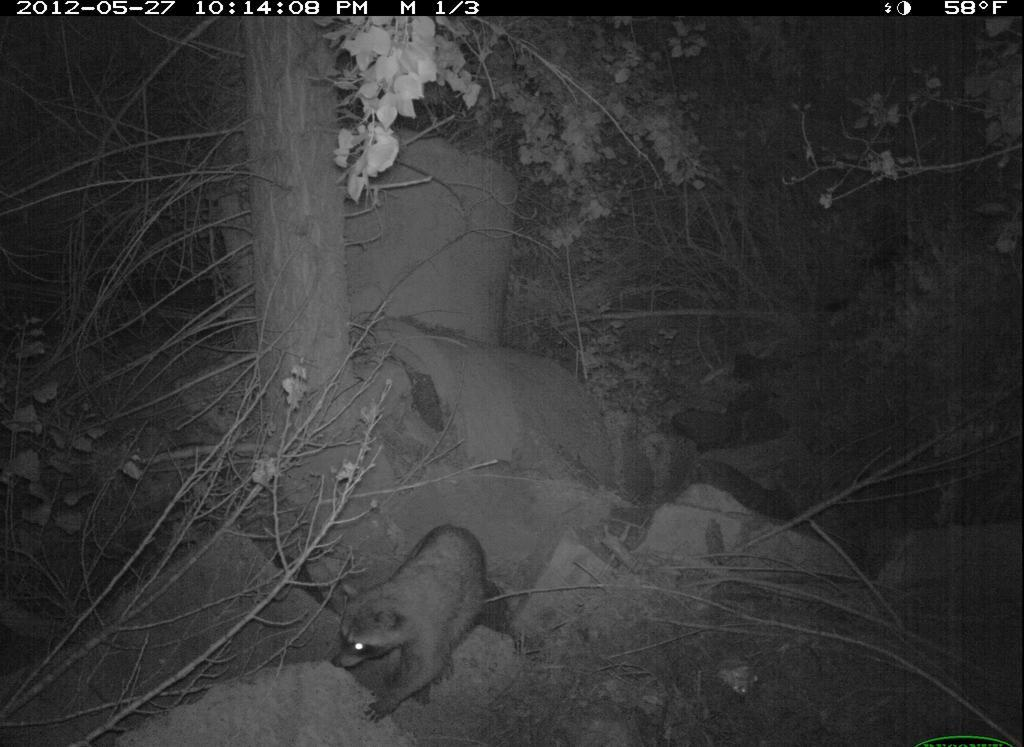raccoon: (321, 518, 515, 729)
